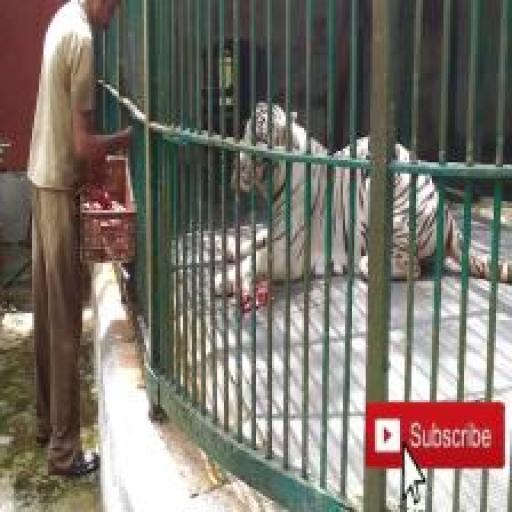Tiger: (212, 100, 512, 299)
